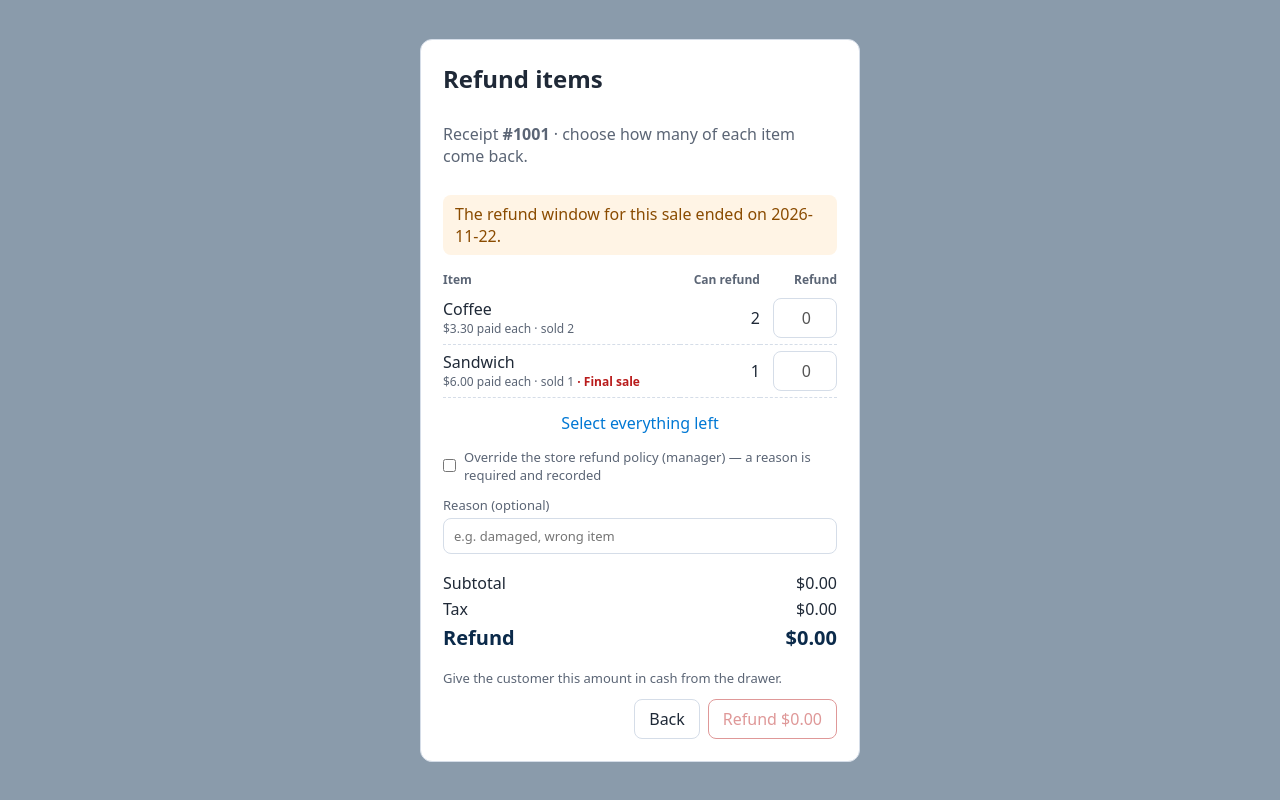
Test: <RefundItems> refund policy › after the refund window everything is locked unless overridden
Expected: the message shows "refund window for this sale ended", 455,202 -> 771,224
Expected: the number field named "Refund quantity for Coffee" is disabled, 773,298 -> 837,338
Click the checkbox labelled "Override the store refund policy" at (450, 466), box 443,459 -> 456,472
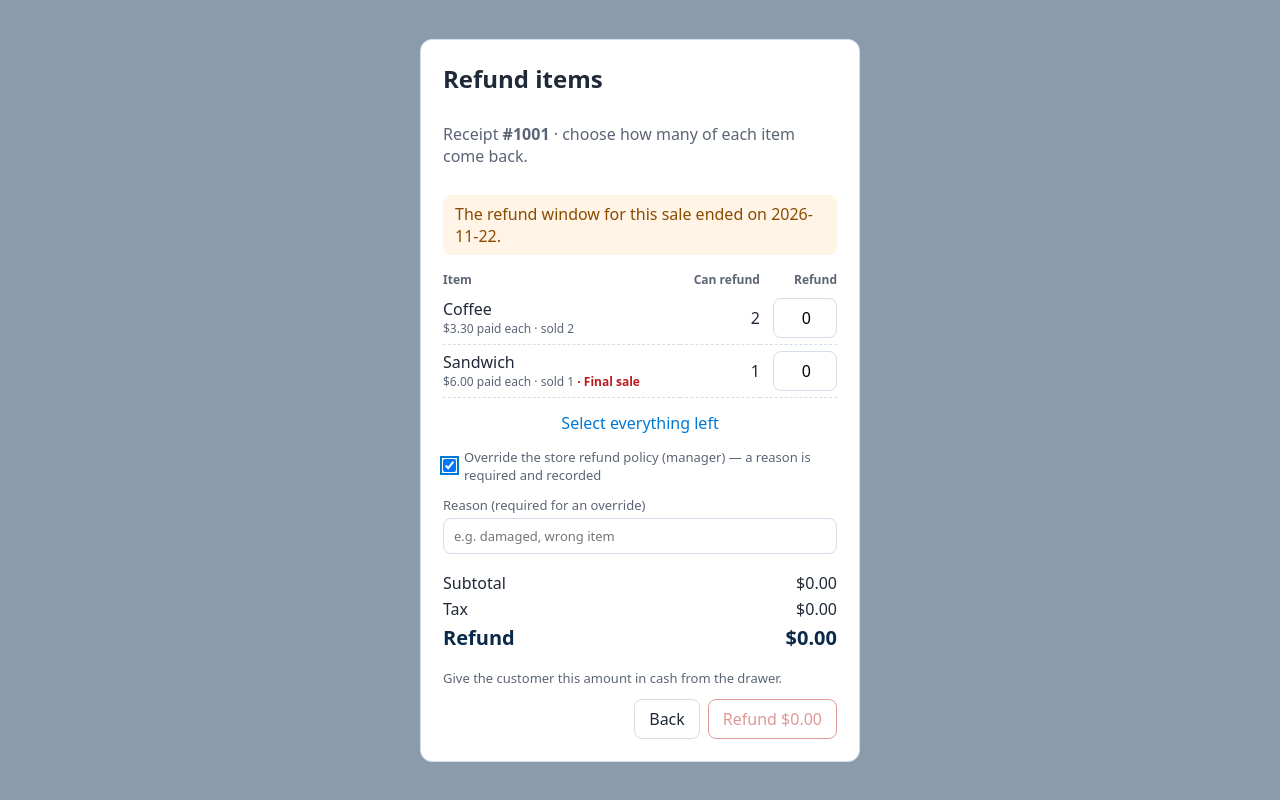
Now the number field named "Refund quantity for Coffee" is enabled, box 773,298 -> 837,338
